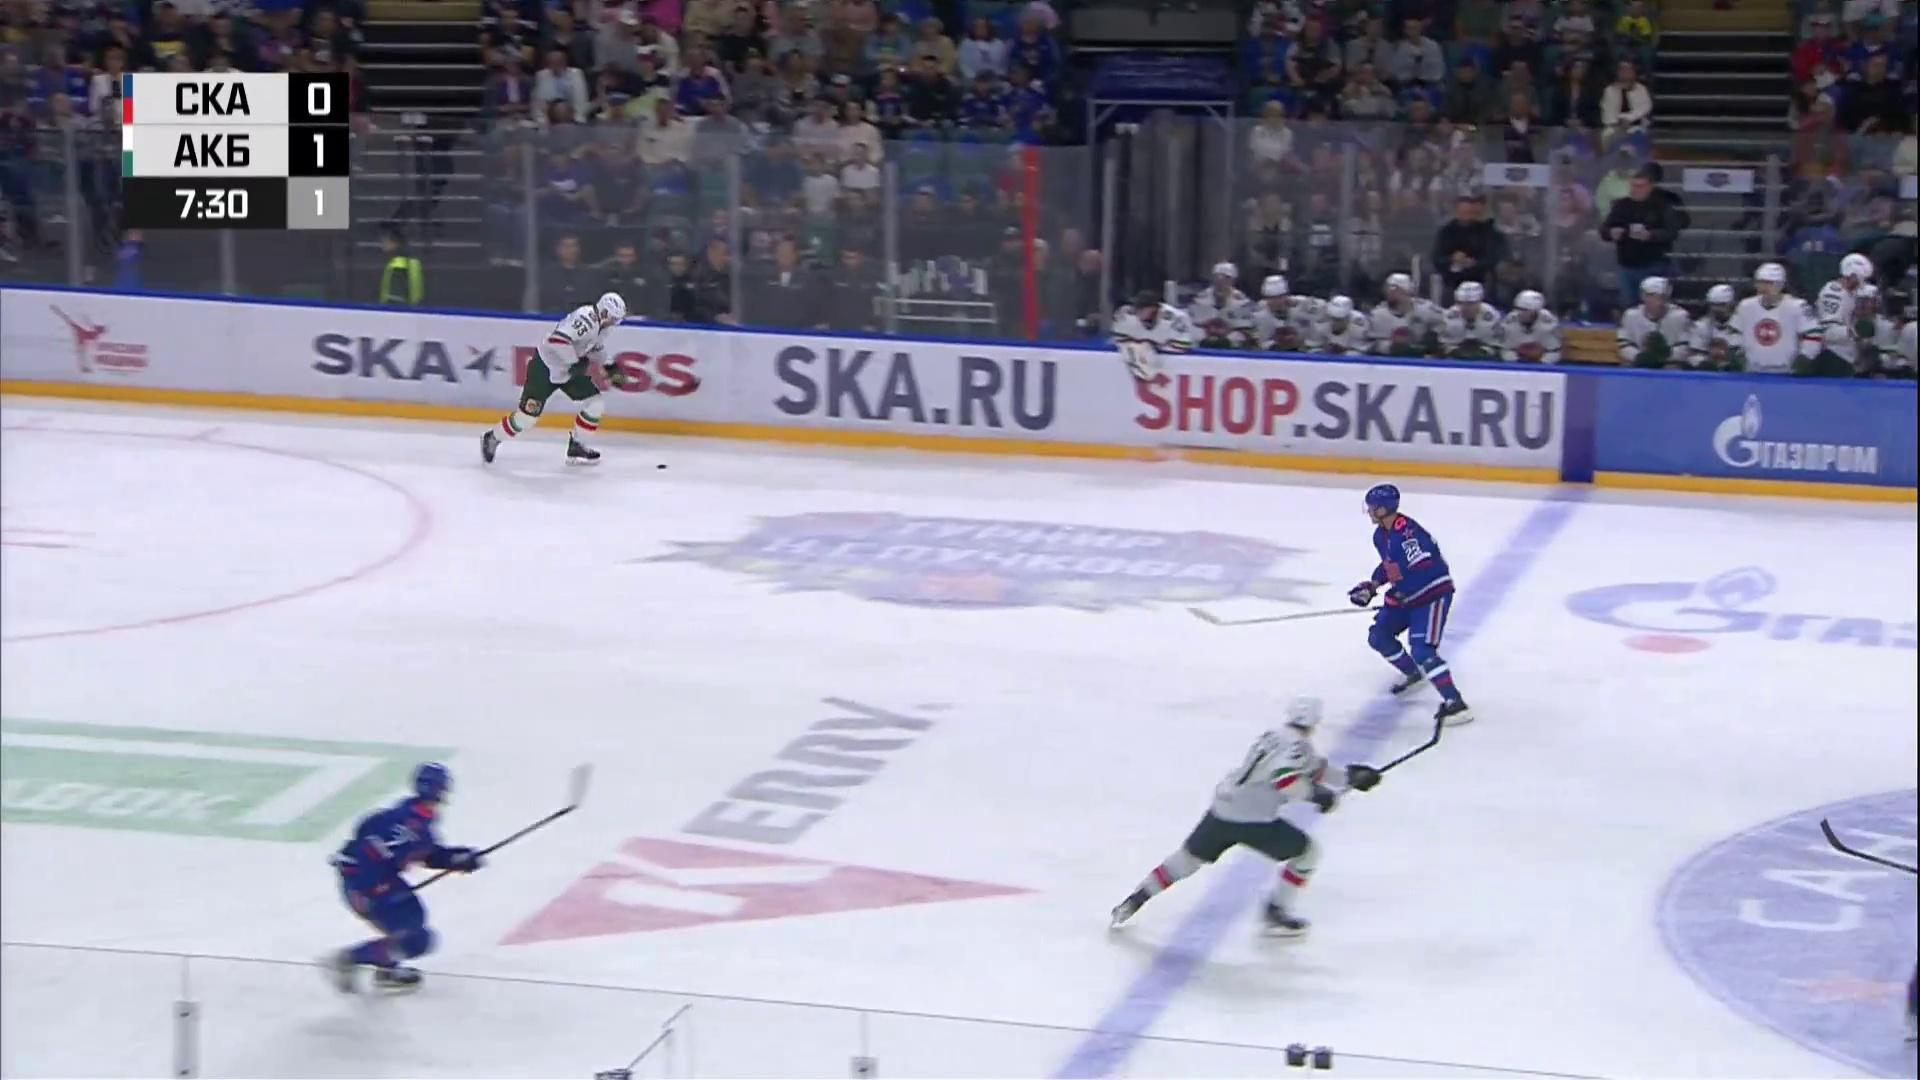ball: (657, 464, 669, 471)
